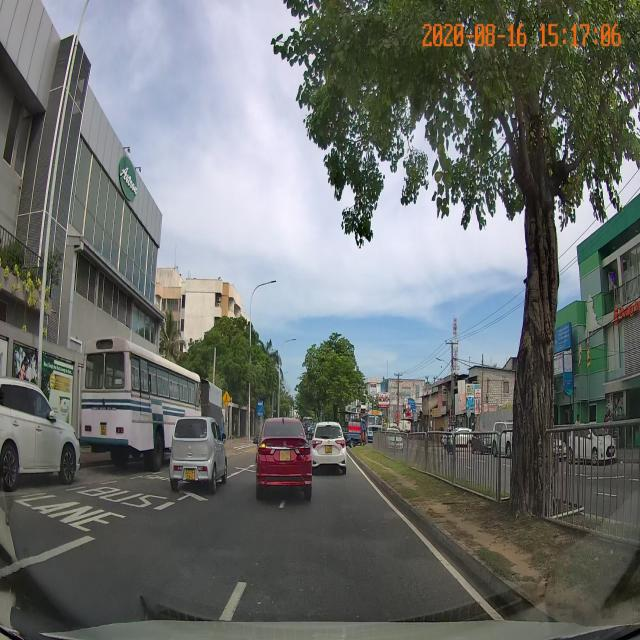BUS LANE: (5, 483, 174, 536)
